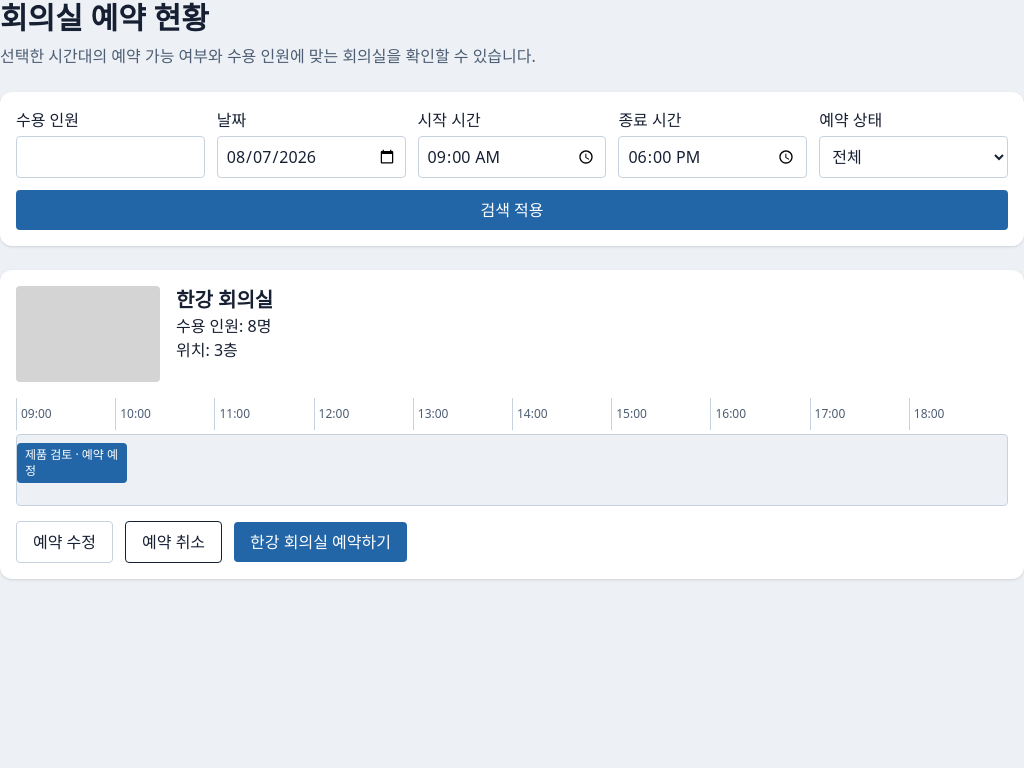
it: MeetingRoomPage › keeps the dialog open with an actionable cancellation error for AUTH_INTEGRATION_PENDING
This screenshot has width=1024, height=768.
Click the button with aria-label "예약 취소: 제품 검토" at (174, 542), box x1=125 y1=521 x2=222 y2=563
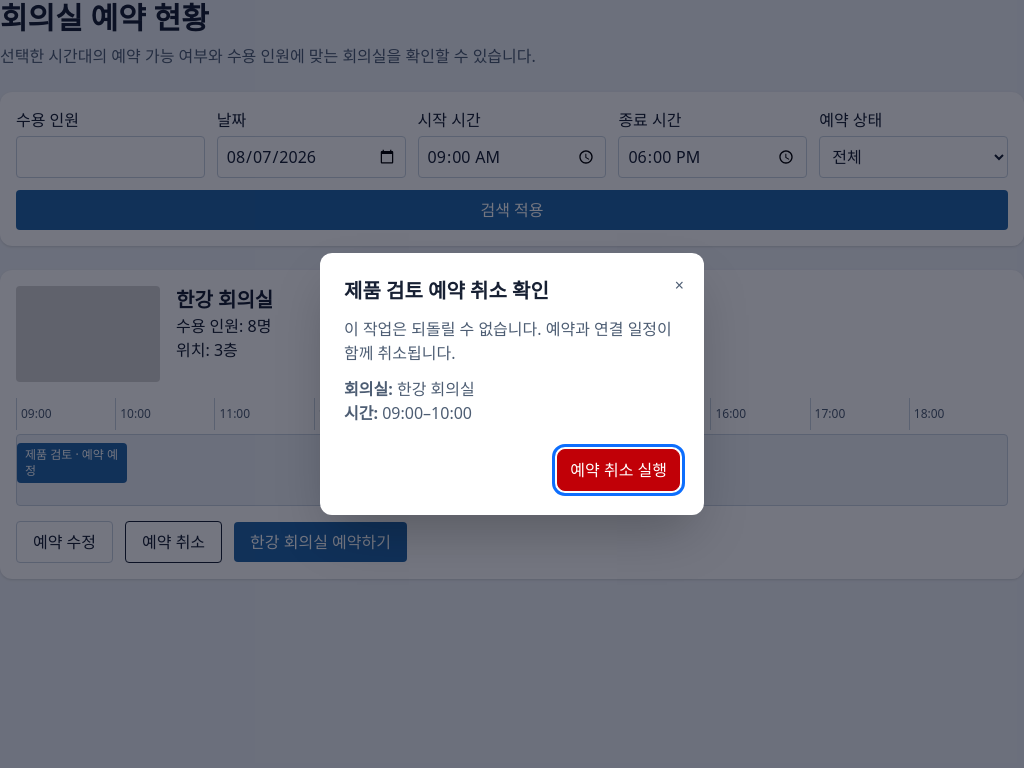
Click the button "예약 취소 실행" at (619, 470), box x1=557 y1=449 x2=680 y2=491
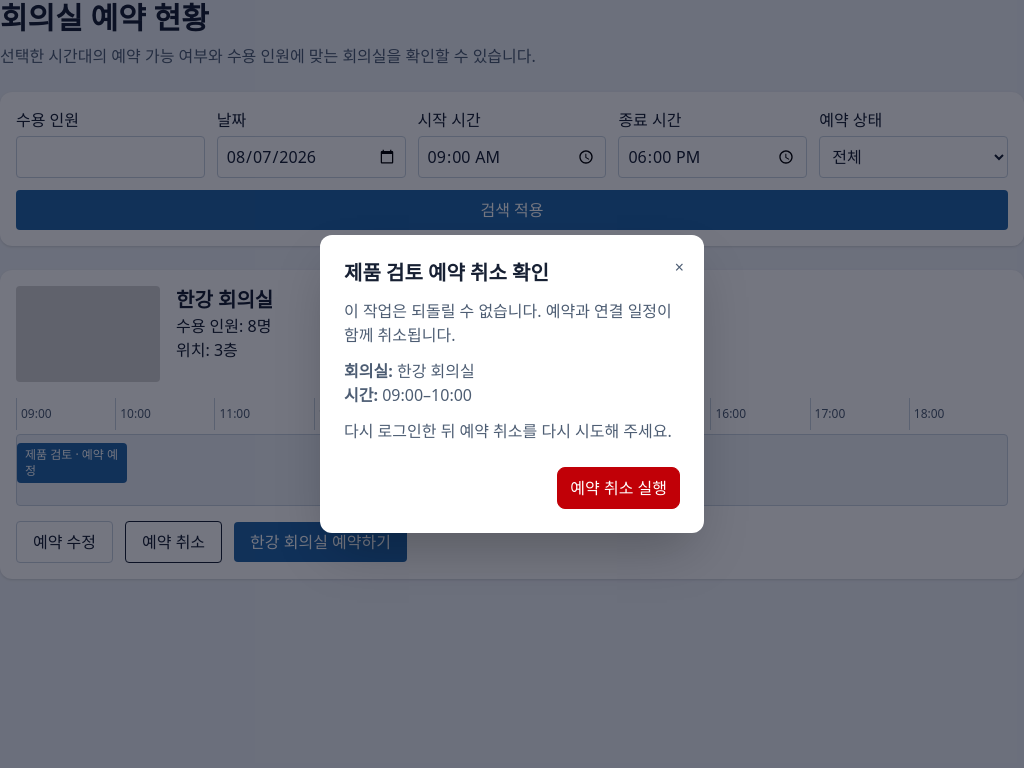
Expected: the dialog is shown, x1=320 y1=235 x2=704 y2=533
Expected: the message reads "다시 로그인한 뒤 예약 취소를 다시 시도해 주세요.", x1=344 y1=420 x2=672 y2=442
